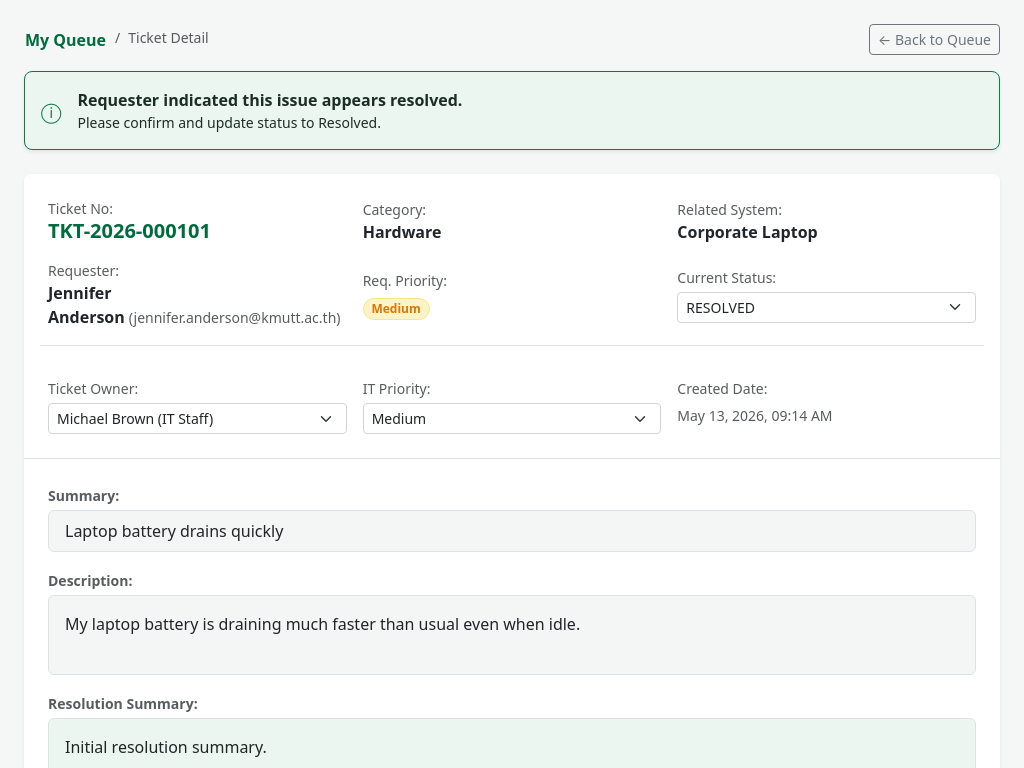
Lab 3 Staff Ticket Detail UI Tests (UI-06, UI-07, UI-08) › UI-07b: displays validation errors inside modal when transitioning to CLOSED with invalid length
Expected: the text "TKT-2026-000101" is shown, [48,217,211,244]
Transition to CLOSED
Select "CLOSED" in the dropdown labelled "Current Status:" at coordinates (827, 307), box [677,292,976,322]
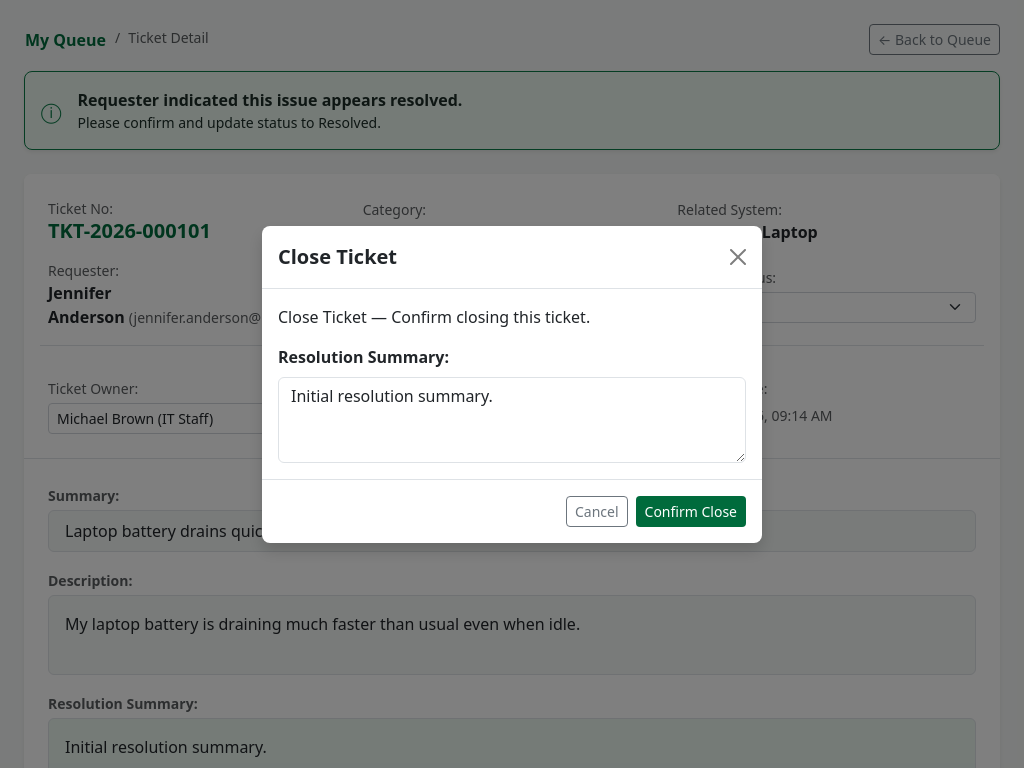
Result: the heading "Close Ticket" is shown at [278,242,397,272]
Replace the text in the text box labelled "Resolution Summary:" with "Bad" at coordinates (512, 420), box [278,376,746,462]
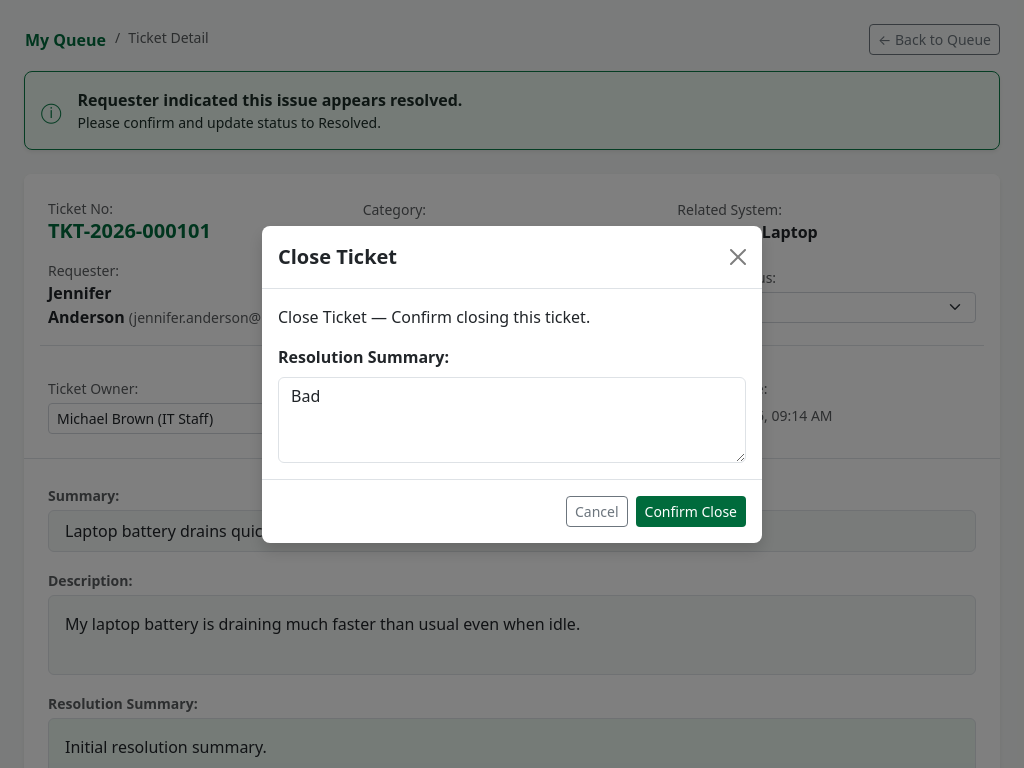
Click the button "Confirm Close" at coordinates (691, 511), box [636,496,746,526]
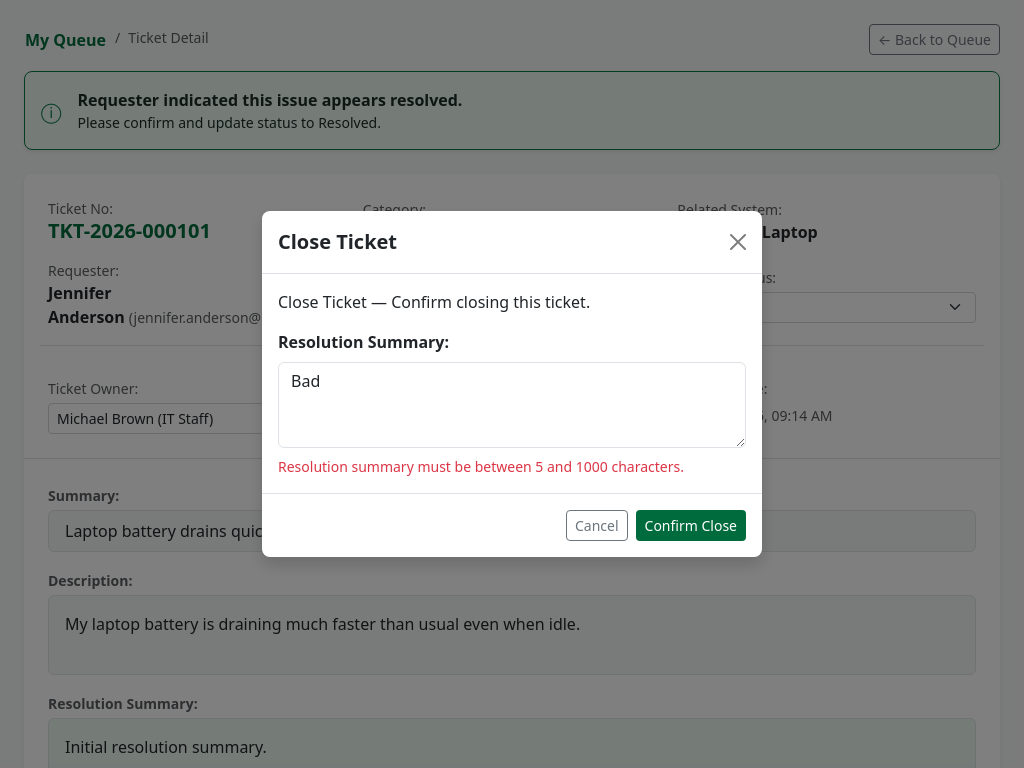
Result: the text "Resolution summary must be between 5 and 1000 characters." is shown at [278,456,746,477]
